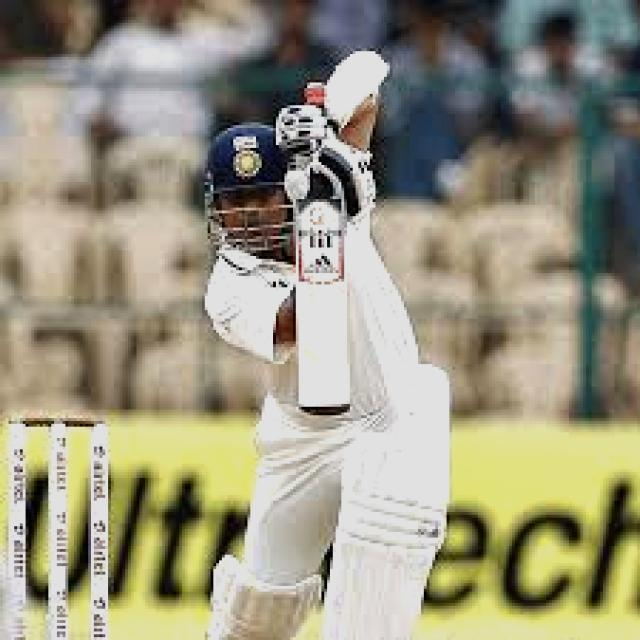toe: (287, 353, 364, 417)
